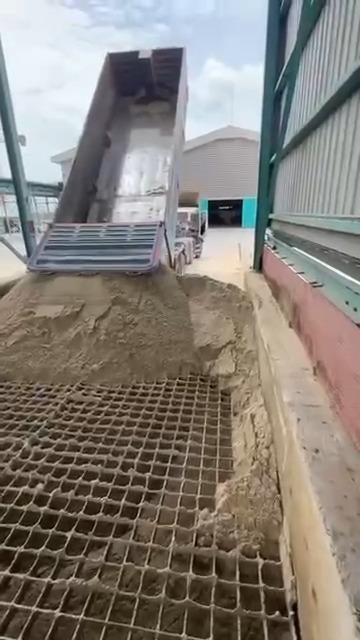sand: (0, 268, 280, 546)
